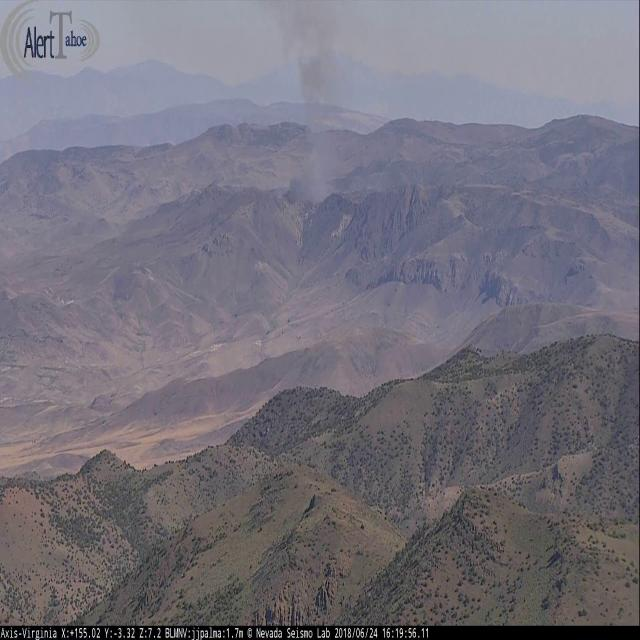smoke: (274, 5, 363, 208)
